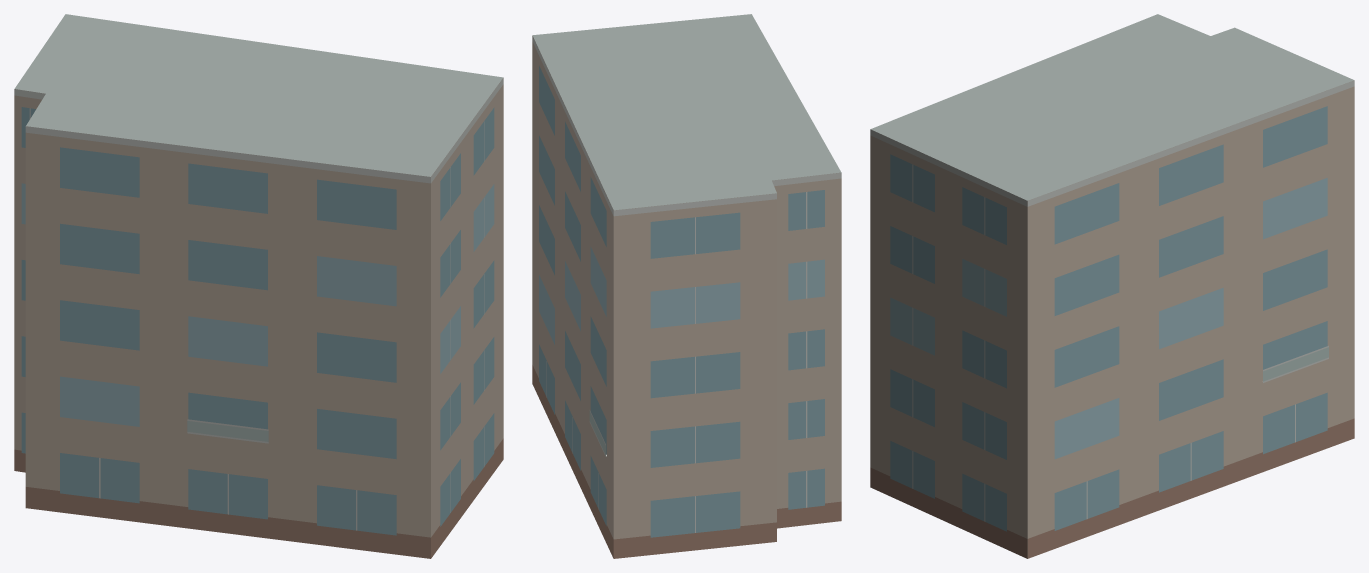
The model's file is survey-upis-32842756.glb.
The picture shows the model from 3 angles, left to right: view 1: azimuth 30°, elevation 25°; view 2: azimuth 150°, elevation 25°; view 3: azimuth 270°, elevation 25°; orthographic projection. The views are drawn at different scales.
Visible parts, largest first — view 1: survey-upis-32842756.tmp; view 2: survey-upis-32842756.tmp; view 3: survey-upis-32842756.tmp.
Boxes of the visible parts, x1,y1,x2,y2 form: survey-upis-32842756.tmp: (14,14,503,558); survey-upis-32842756.tmp: (532,14,841,558); survey-upis-32842756.tmp: (870,14,1354,558).
Size of the model in its own units: 15.95 by 14.25 by 17.47.
